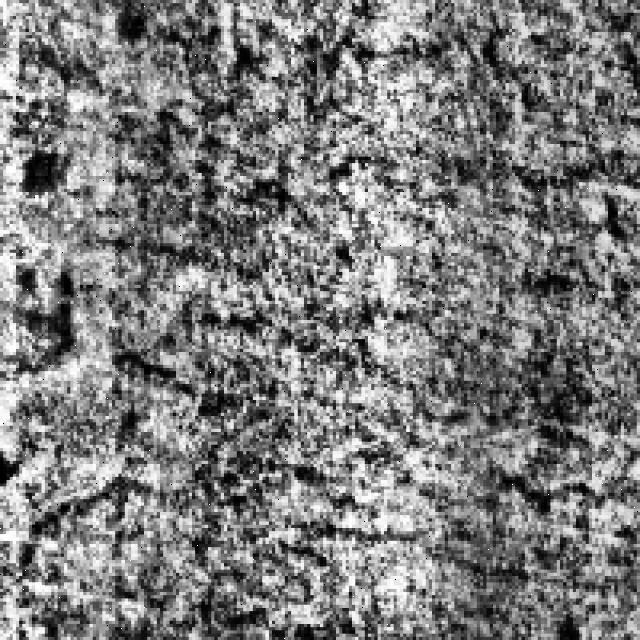Pitted_Surface: (64, 86, 528, 340), (285, 330, 640, 580)
